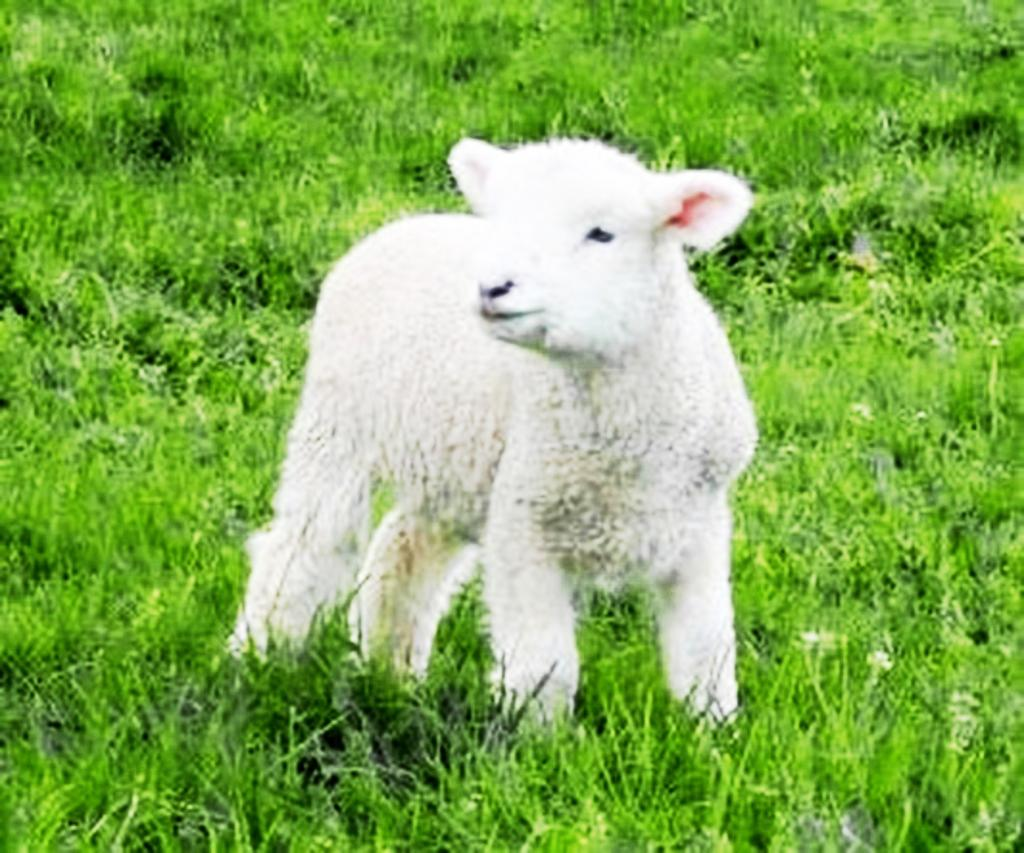Sheep: (225, 138, 753, 752)
